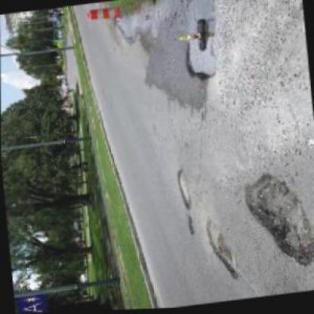Hueco: (239, 168, 313, 276), (175, 0, 225, 84), (202, 217, 240, 282), (175, 168, 189, 212), (185, 216, 195, 236)
